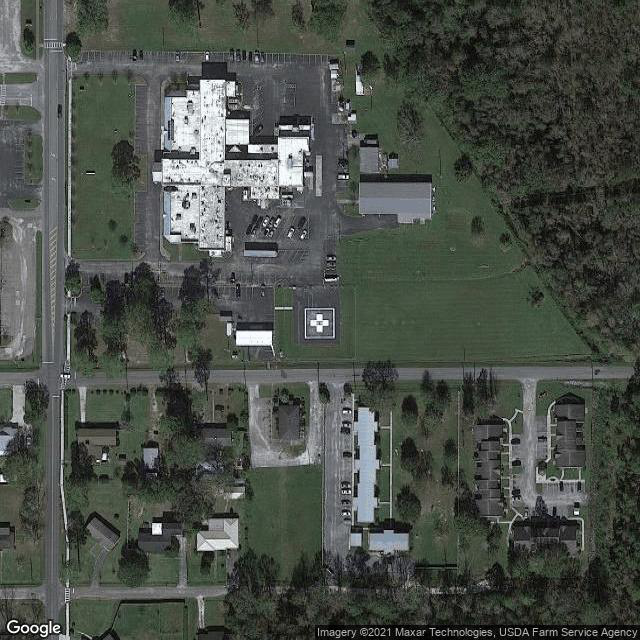Helipad: (301, 306, 337, 339)
